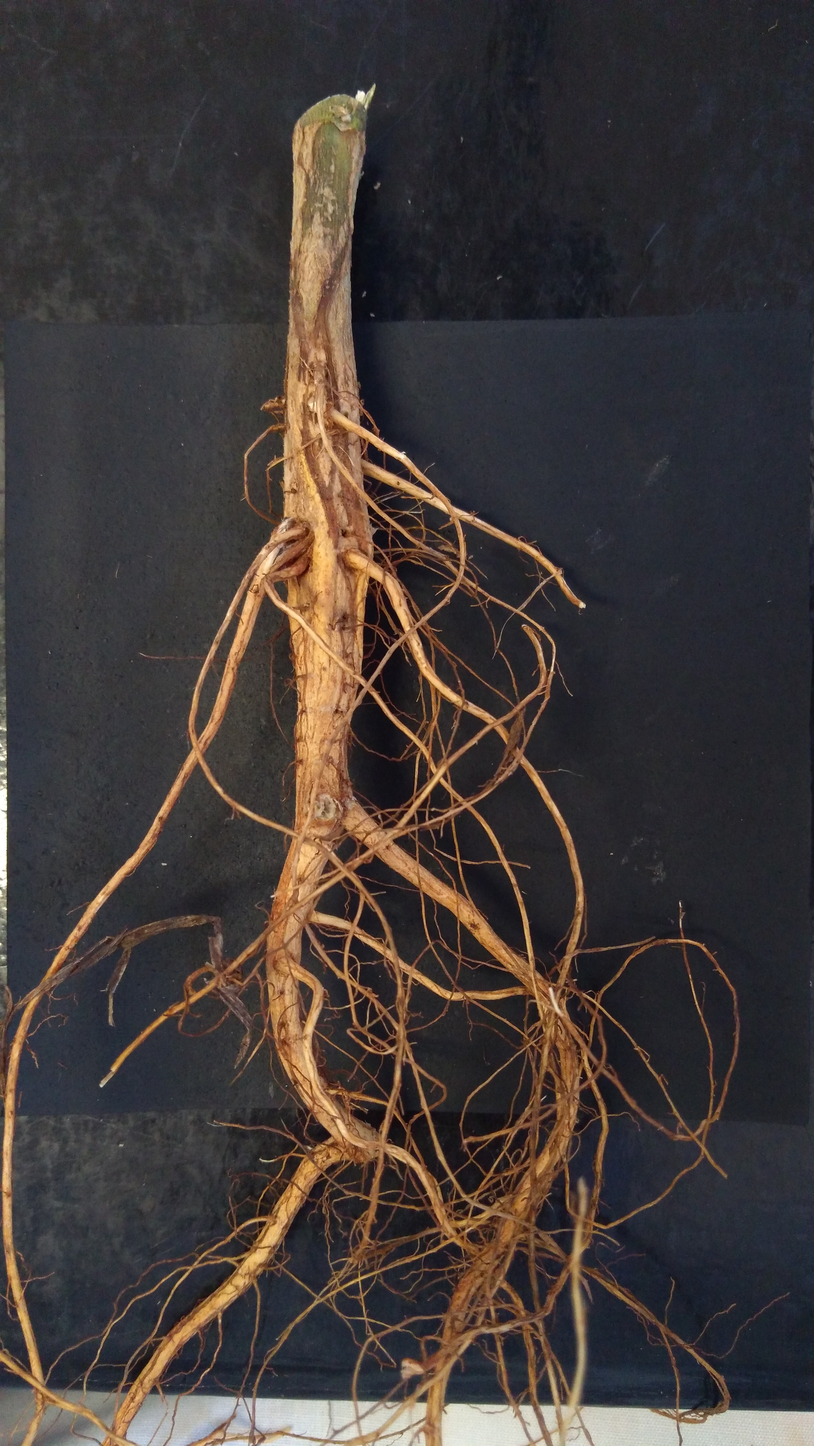nodule: (205, 956, 243, 999), (400, 1356, 425, 1380), (273, 396, 285, 407)
